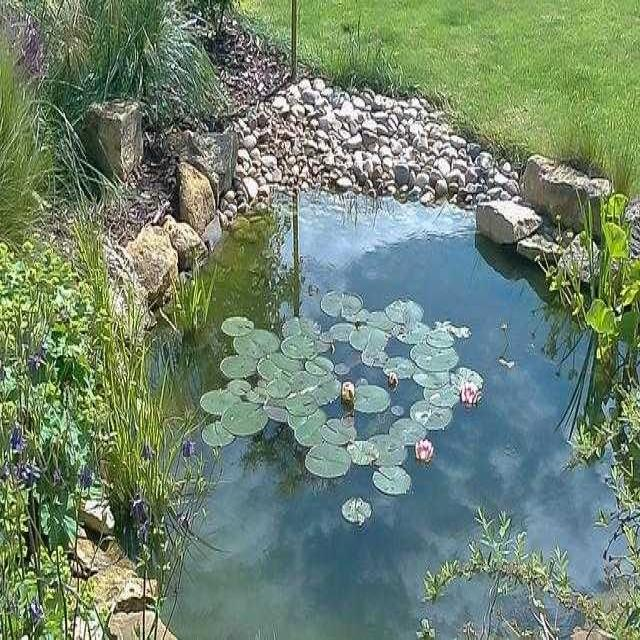Ponds: (60, 82, 640, 640)
